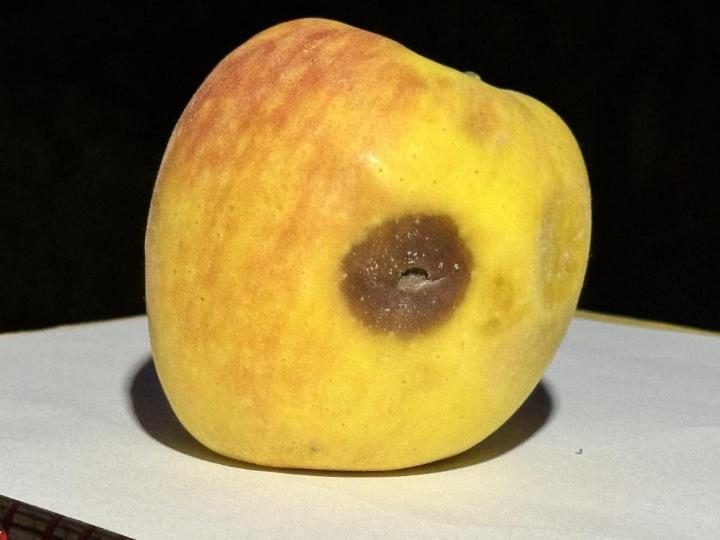apple: (145, 19, 591, 470)
rot_mold_decay: (340, 214, 472, 336)
